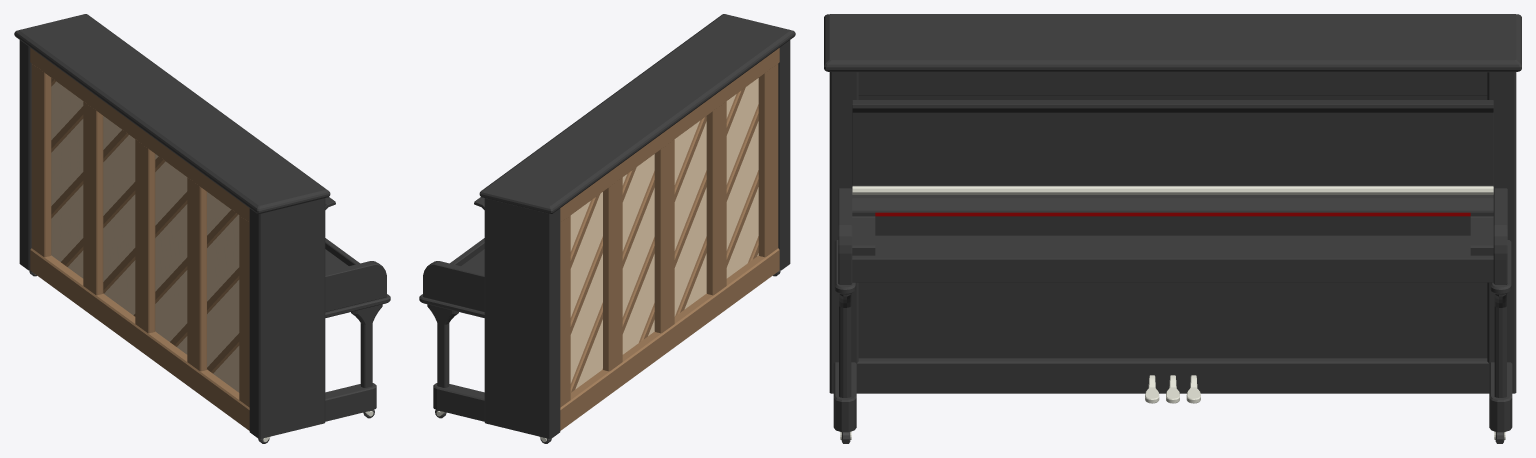
The model's file is piano.glb.
The picture shows the model from 3 angles, left to right: view 1: azimuth 30°, elevation 25°; view 2: azimuth 150°, elevation 25°; view 3: azimuth 270°, elevation 25°; orthographic projection. The views are drawn at different scales.
Visible parts, largest first — view 1: back_panel_struts, side_panels, back_panel, top_GEO, back_panel_diag_struts, arms, legs, arms_struts, arms_base; view 2: back_panel_struts, side_panels, top_GEO, back_panel, back_panel_diag_struts, arms, legs, arms_struts, arms_base; view 3: cover, front_panels, top_GEO, keys_body, front_bot_panel, keys_front_panel, front_panel_top_strut, keys_base, side_panels, arms, arms_struts, legs (+1 smaller).
Boxes of the visible parts, bbox=[...] form: back_panel_struts: bbox=[30, 48, 249, 430]; side_panels: bbox=[19, 40, 325, 438]; back_panel: bbox=[51, 81, 239, 392]; top_GEO: bbox=[14, 14, 330, 213]; back_panel_diag_struts: bbox=[51, 78, 239, 373]; arms: bbox=[325, 261, 386, 311]; legs: bbox=[325, 383, 376, 421]; arms_struts: bbox=[351, 304, 382, 387]; arms_base: bbox=[325, 294, 390, 317]; back_panel_struts: bbox=[560, 48, 779, 430]; side_panels: bbox=[484, 40, 790, 438]; top_GEO: bbox=[479, 14, 795, 213]; back_panel: bbox=[570, 78, 758, 389]; back_panel_diag_struts: bbox=[570, 87, 758, 392]; arms: bbox=[423, 261, 484, 311]; legs: bbox=[433, 383, 484, 421]; arms_struts: bbox=[427, 304, 458, 387]; arms_base: bbox=[419, 294, 484, 317]; cover: bbox=[852, 100, 1493, 194]; front_panels: bbox=[858, 96, 1487, 358]; top_GEO: bbox=[824, 14, 1521, 72]; keys_body: bbox=[852, 195, 1493, 255]; front_bot_panel: bbox=[856, 358, 1489, 393]; keys_front_panel: bbox=[852, 255, 1493, 282]; front_panel_top_strut: bbox=[858, 72, 1487, 95]; keys_base: bbox=[875, 235, 1470, 255]; side_panels: bbox=[829, 72, 1516, 393]; arms: bbox=[838, 188, 1507, 284]; arms_struts: bbox=[839, 293, 1506, 397]; legs: bbox=[833, 362, 1512, 432].
Size of what is drawn, in the model's own units: 11.05 by 18.5 by 33.56.
